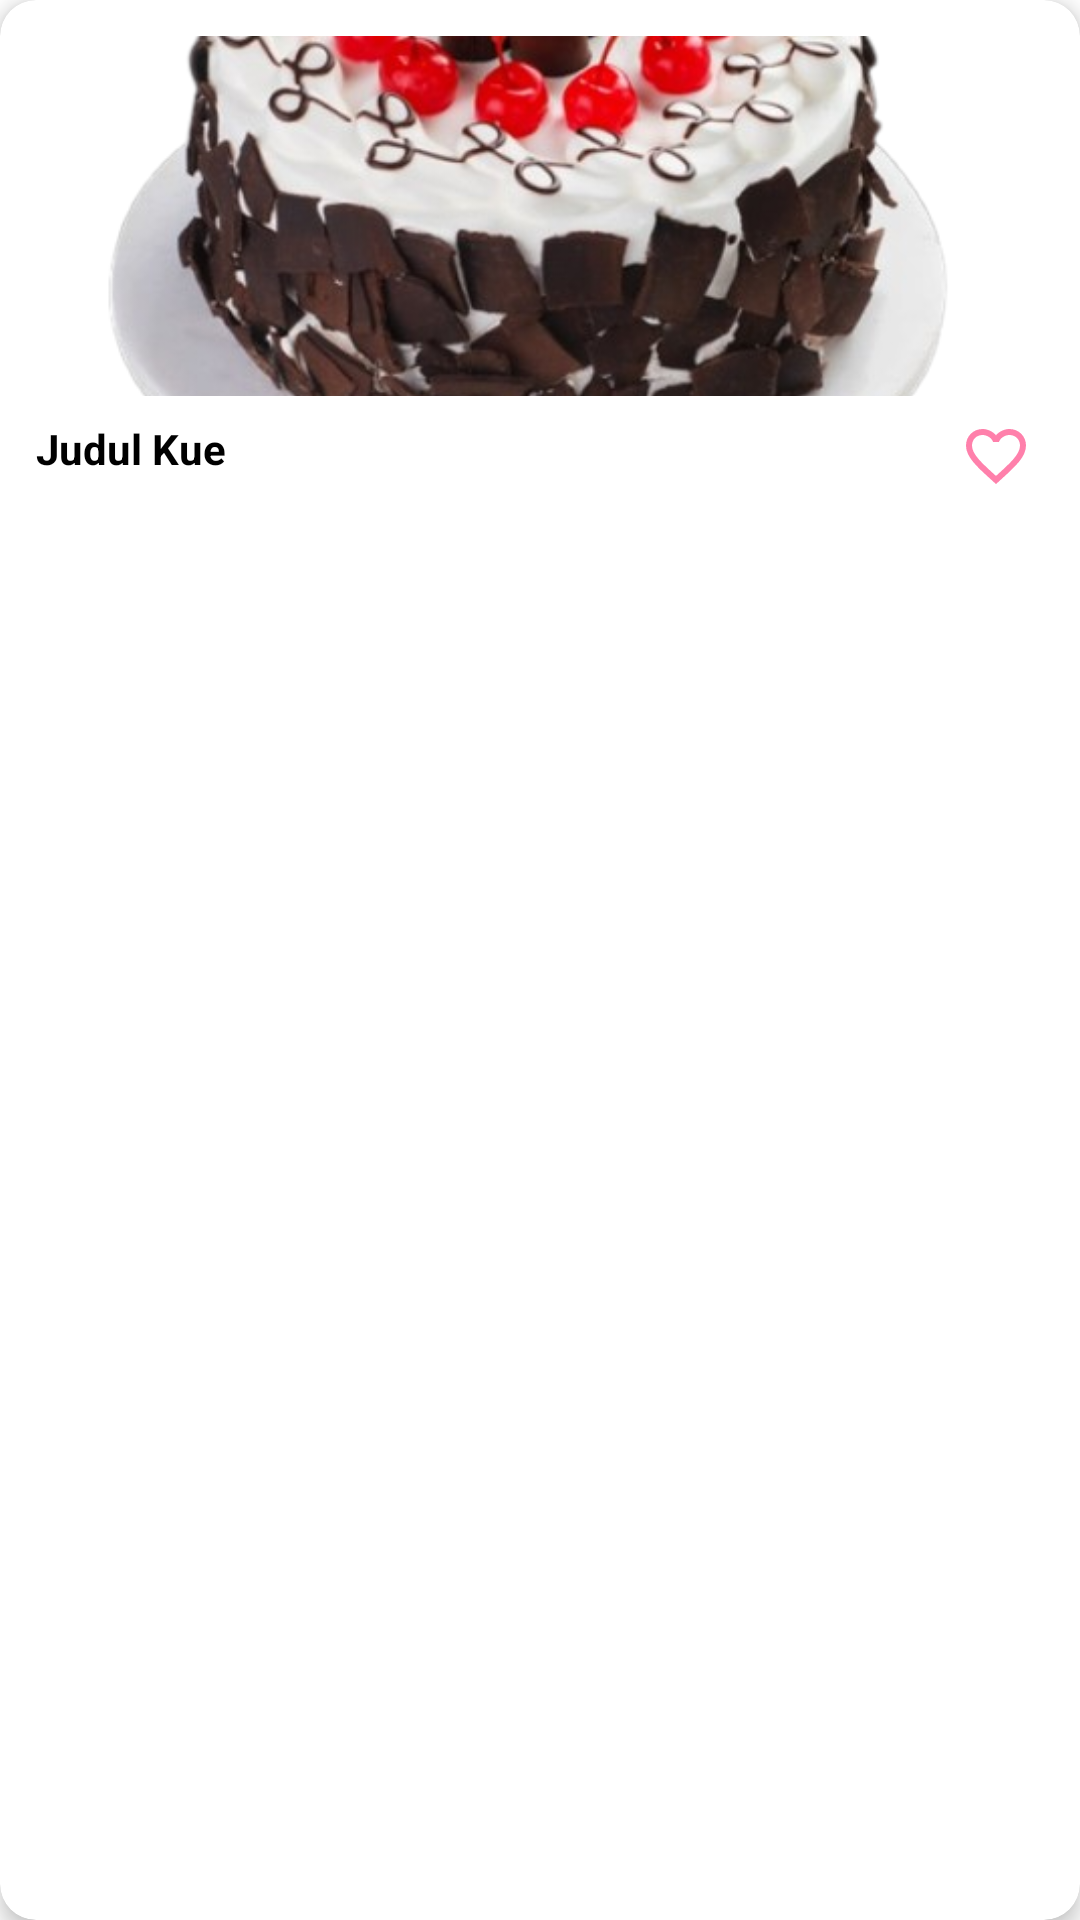

Icon bounding boxes for this 1080x1920 phone screenshot, format detection(x1, y1, x2, y2):
Like: detection(966, 429, 1026, 484)
